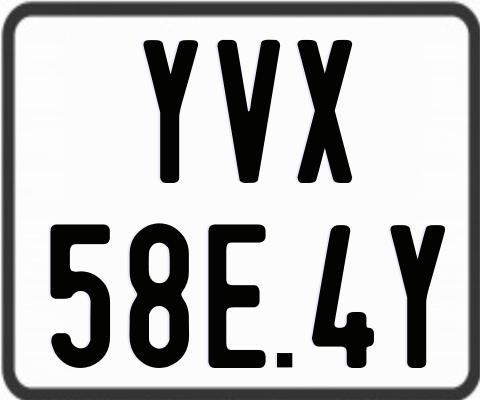4: (309, 222, 375, 370)
5: (50, 224, 116, 373)
8: (126, 221, 187, 366)
E: (208, 221, 271, 365)
V: (215, 37, 284, 186)
X: (296, 40, 357, 186)
Y: (141, 39, 199, 184), (388, 222, 443, 369)
